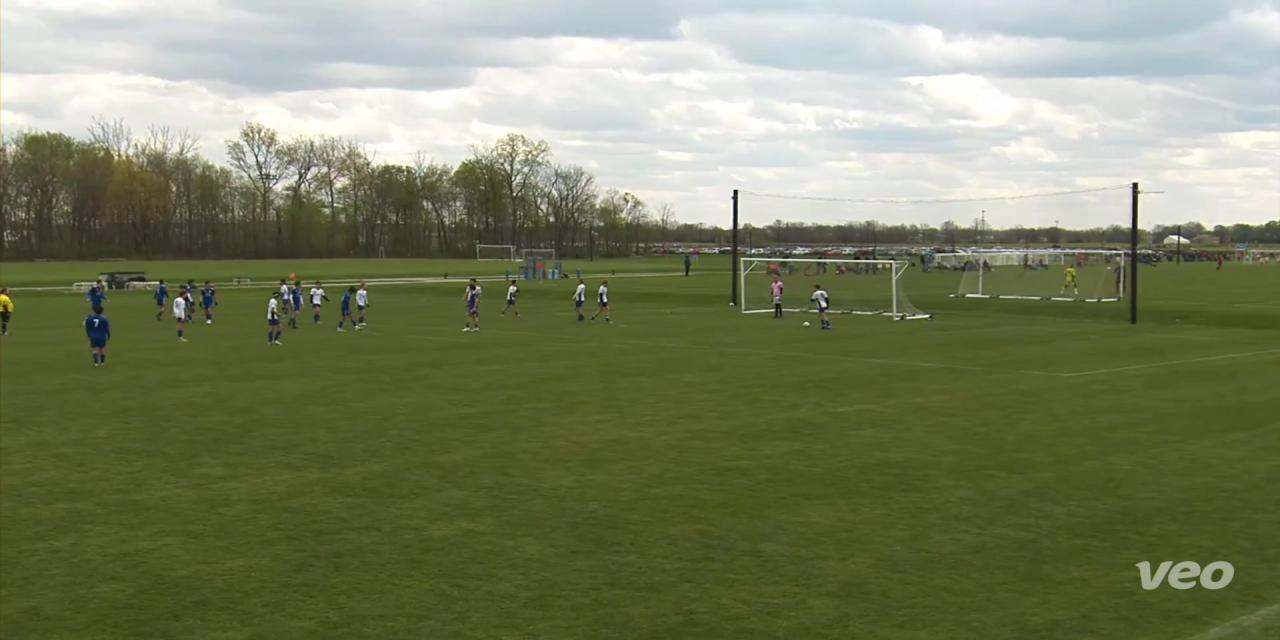goal: (732, 249, 931, 326)
sports ball: (800, 318, 813, 332)
